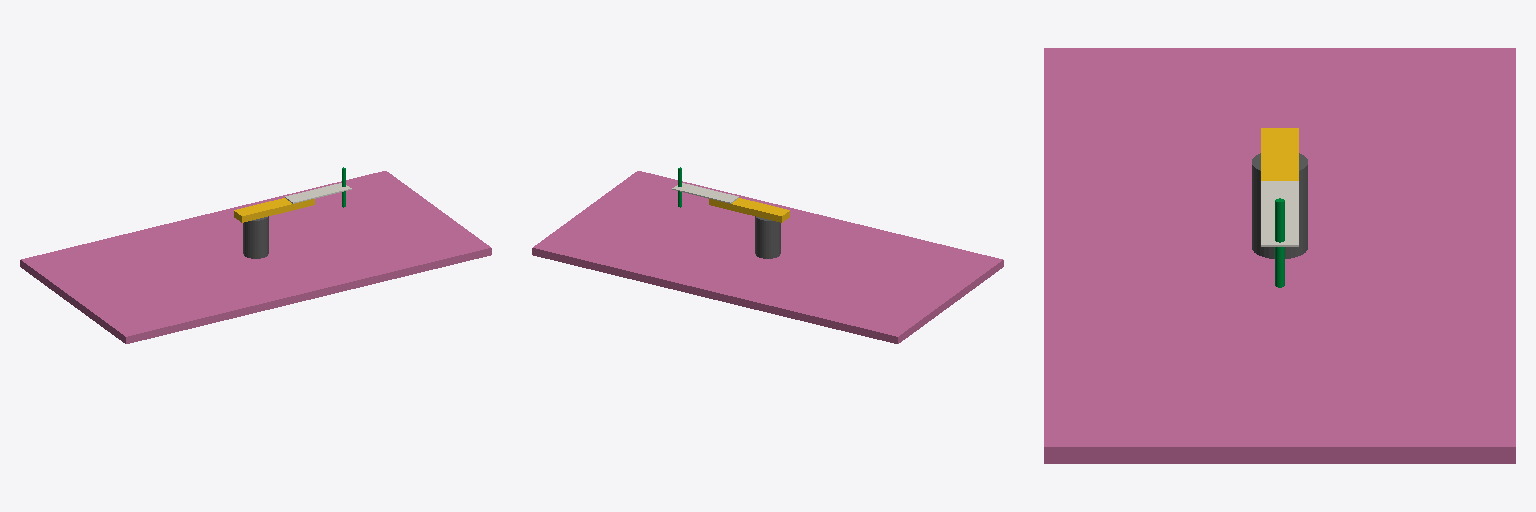
robot.urdf — myrobot:
<?xml version="1.0" ?>
<!-- =================================================================================== -->
<!-- |    This document was autogenerated by xacro from myrobot.xacro                  | -->
<!-- |    EDITING THIS FILE BY HAND IS NOT RECOMMENDED                                 | -->
<!-- =================================================================================== -->
<robot name="myrobot" xmlns:xacro="http://wiki.ros.org/xacro">
  <!-- links: main serial chain -->
  <link name="base_link">
    <visual>
      <origin rpy="0 0 0" xyz="0 0 0.05"/>
      <geometry>
        <cylinder length="0.1" radius="0.03"/>
      </geometry>
      <material name="">
        <color rgba="0.4 0.4 0.4 1.0"/>
      </material>
    </visual>
    <collision>
      <origin rpy="0 0 0" xyz="0 0 0.05"/>
      <geometry>
        <cylinder length="0.1" radius="0.03"/>
      </geometry>
    </collision>
  </link>
  <link name="link_1">
    <visual>
      <origin rpy="0 0 0" xyz="0.05 0 0.0085"/>
      <geometry>
        <box size="0.2 0.04 0.017"/>
      </geometry>
      <material name="">
        <color rgba="0.96 0.76 0.13 1.0"/>
      </material>
    </visual>
    <collision>
      <origin rpy="0 0 0" xyz="0.05 0 0.0085"/>
      <geometry>
        <box size="0.2 0.04 0.017"/>
      </geometry>
    </collision>
  </link>
  <link name="link_2">
    <visual>
      <origin rpy="0 0 0" xyz="0.03 0 0.0015"/>
      <geometry>
        <box size="0.16 0.04 0.003"/>
      </geometry>
      <material name="">
        <color rgba="0.86 0.85 0.81 1.0"/>
      </material>
    </visual>
    <collision>
      <origin rpy="0 0 0" xyz="0.03 0 0.0015"/>
      <geometry>
        <box size="0.16 0.04 0.003"/>
      </geometry>
    </collision>
  </link>
  <link name="link_3">
    <visual>
      <origin rpy="0 0 0" xyz="0 0 0"/>
      <geometry>
        <cylinder length="0.1" radius="0.005"/>
      </geometry>
      <material name="">
        <color rgba="0.0 0.607843137255 0.274509803922 1.0"/>
      </material>
    </visual>
    <collision>
      <origin rpy="0 0 0" xyz="0 0 0"/>
      <geometry>
        <cylinder length="0.1" radius="0.005"/>
      </geometry>
    </collision>
  </link>
  <!-- joints: main serial chain -->
  <joint name="joint_1" type="revolute">
    <origin rpy="0 0 0" xyz="0 0 0.1"/>
    <parent link="base_link"/>
    <child link="link_1"/>
    <axis xyz="0 0 1"/>
    <limit effort="0" lower="-2.618" upper="2.618" velocity="2.1"/>
  </joint>
  <joint name="joint_2" type="revolute">
    <origin rpy="0 0 0" xyz="0.14 0 0.017"/>
    <parent link="link_1"/>
    <child link="link_2"/>
    <axis xyz="0 0 1"/>
    <limit effort="0" lower="-2.618" upper="2.618" velocity="2.1"/>
  </joint>
  <joint name="joint_3" type="prismatic">
    <origin rpy="0 0 0" xyz="0.1 0 0"/>
    <parent link="link_2"/>
    <child link="link_3"/>
    <axis xyz="0 0 1"/>
    <limit effort="0" lower="-0.05" upper="0.05" velocity="0.03"/>
  </joint>
  <!-- ROS-Industrial 'base' frame: base_link to World Coordinates transform -->
  <!-- 
    <link name="${prefix}base" />
    <joint name="${prefix}base_link-base" type="fixed">
      <origin xyz="0 0 0.450" rpy="0 0 0"/>
      <parent link="${prefix}base_link"/>
      <child link="${prefix}base"/>
    </joint -->
  <!-- ROS-Industrial 'flange' frame: attachment point for EEF models -->
  <!-- link name="${prefix}flange" />
    <joint name="${prefix}joint_6-flange" type="fixed">
      <origin xyz="0 0 0" rpy="0 0 0" />
      <parent link="${prefix}link_6" />
      <child link="${prefix}flange" />
    </joint -->
  <!-- ROS-Industrial 'tool0' frame: all-zeros tool frame -->
  <link name="tool0"/>
  <joint name="link_3-tool0" type="fixed">
    <!--origin xyz="0 0 0" rpy="${pi} ${-pi/2.0} 0" /-->
    <origin rpy="0 0 0" xyz="0 0 0"/>
    <parent link="link_3"/>
    <child link="tool0"/>
  </joint>
  <link name="world"/>
  <link name="table">
    <visual>
      <origin rpy="0 0 0" xyz="0 0 0.01"/>
      <geometry>
        <box size="1.0 0.5 0.02"/>
      </geometry>
    </visual>
    <collision>
      <origin rpy="0 0 0" xyz="0 0 0.01"/>
      <geometry>
        <box size="1.0 1.0 0.02"/>
      </geometry>
    </collision>
  </link>
  <link name="camera_frame"/>
  <joint name="world_to_table" type="fixed">
    <parent link="world"/>
    <child link="table"/>
    <origin rpy="0 0 0" xyz="0 0 0"/>
  </joint>
  <joint name="world_to_camera" type="fixed">
    <parent link="world"/>
    <child link="camera_frame"/>
    <origin rpy="0 3.14159 0" xyz="0.1 0 0.3"/>
  </joint>
  <joint name="table_to_robot" type="fixed">
    <parent link="table"/>
    <child link="base_link"/>
    <origin rpy="0 0 0" xyz="0 0 0.02"/>
  </joint>
</robot>

--- Render facts (derived) ---
The picture shows the robot from 3 angles, left to right: view 1: azimuth 30°, elevation 25°; view 2: azimuth 150°, elevation 25°; view 3: azimuth 270°, elevation 25°; orthographic projection.
Robot: myrobot — 8 links, 7 joints (2 revolute, 1 prismatic, 4 fixed); root link world; default pose: every joint at zero.
Visible links, largest first — view 1: table, base_link, link_1, link_2; view 2: table, base_link, link_1, link_2; view 3: table, link_2, base_link, link_1, link_3.
Link boxes in pixels (x1,y1,x2,y2): table: (20, 171, 491, 343); base_link: (243, 216, 268, 258); link_1: (234, 198, 314, 222); link_2: (285, 183, 351, 203); table: (532, 171, 1003, 343); base_link: (755, 216, 780, 258); link_1: (709, 198, 789, 222); link_2: (672, 183, 738, 203); table: (1044, 48, 1515, 463); link_2: (1261, 181, 1298, 246); base_link: (1252, 153, 1307, 258); link_1: (1261, 128, 1298, 180); link_3: (1275, 198, 1284, 287).
Bounding box of the posed robot: 1 × 0.5 × 0.187 m (x, y, z).
Geometry: primitives only (box / cylinder / sphere), no mesh files.
